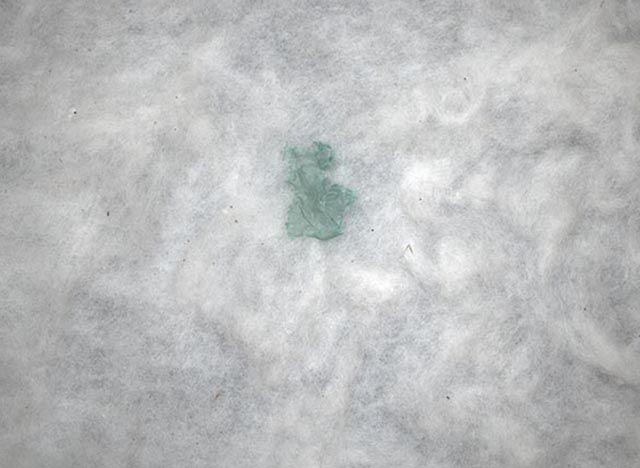plastic film: (282, 141, 357, 240)
